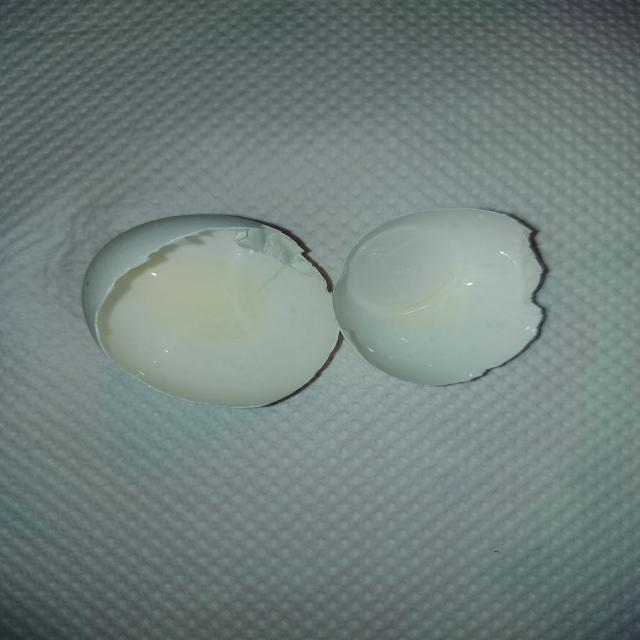egg shell: (81, 214, 340, 410), (332, 208, 544, 388)
